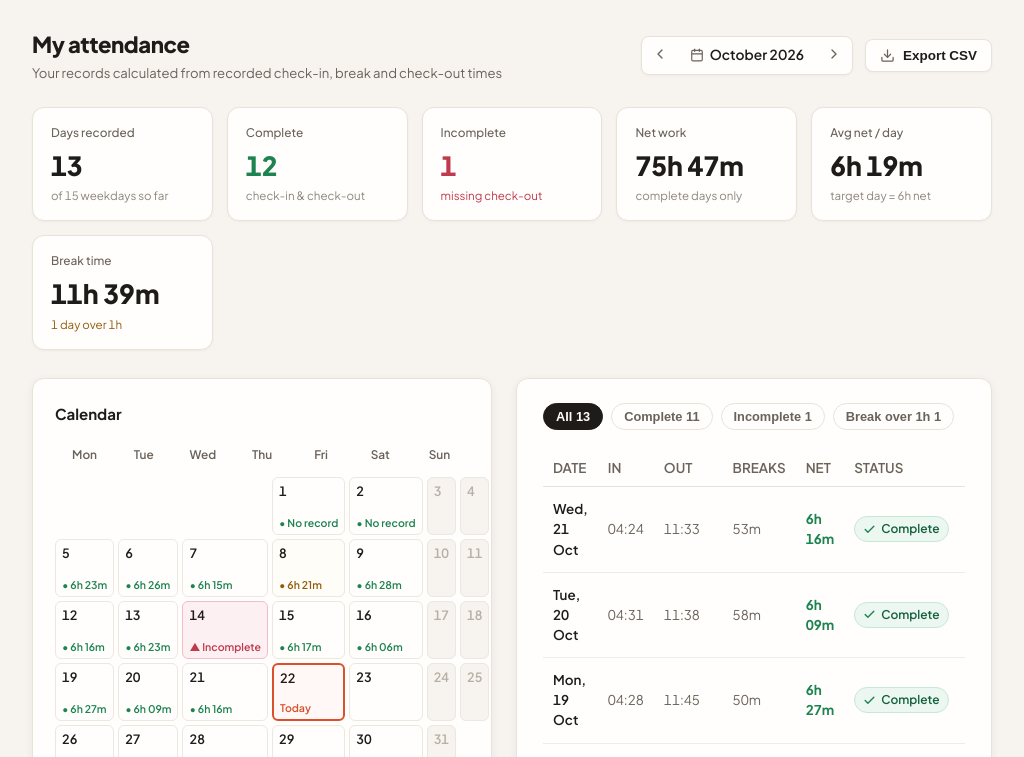
it: MyAttendancePage - Calendar, Records Table & Detail Drawer › opens record detail drawer when clicking a record row
Step 1. Click the row "Wed, 21 Oct 04:24 11:33 53m 6h 16m Complete" → (755, 529), box [543,487,967,572]
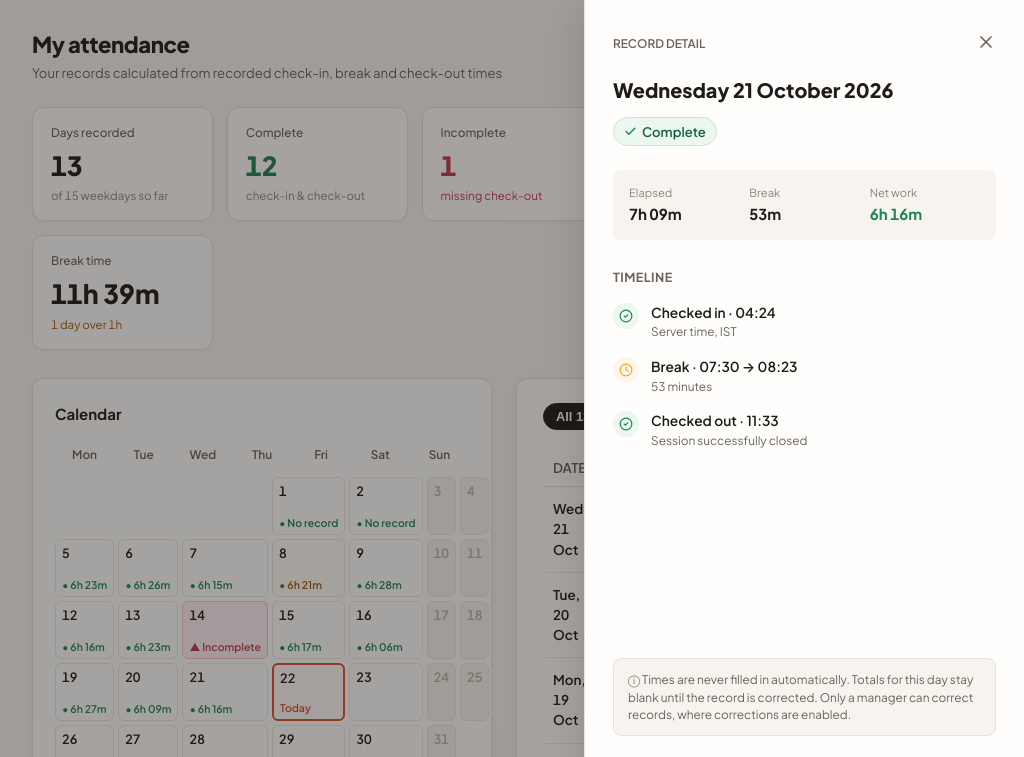
expect the text "Record Detail" is shown: met, box [613,35,705,52]
